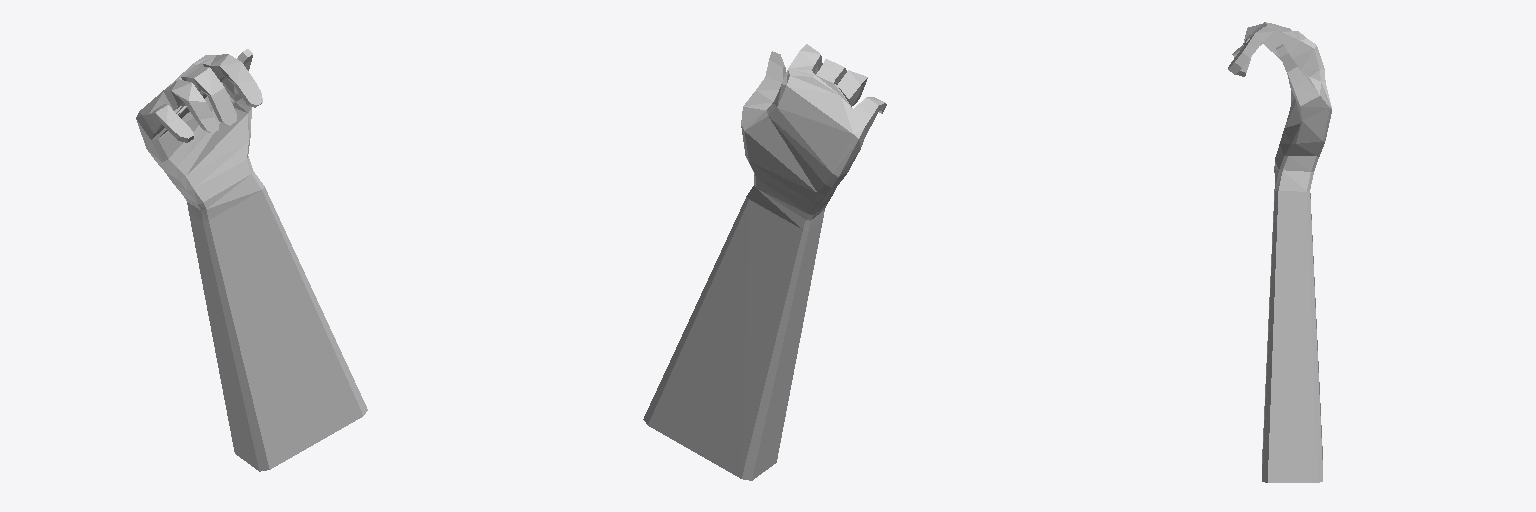
Rendered from hand_anim7.obj.
The picture shows the model from 3 angles: view 1: azimuth 30°, elevation 25°; view 2: azimuth 150°, elevation 25°; view 3: azimuth 270°, elevation 25°; orthographic projection.
Visible parts, largest first — view 1: Cube.001; view 2: Cube.001; view 3: Cube.001.
Part boxes in pixels (x1,y1,x2,y2): Cube.001: (136,49,367,471); Cube.001: (643,44,886,480); Cube.001: (1228,22,1331,482).
Size of the model in its own units: 1.54 by 2.93 by 0.66.